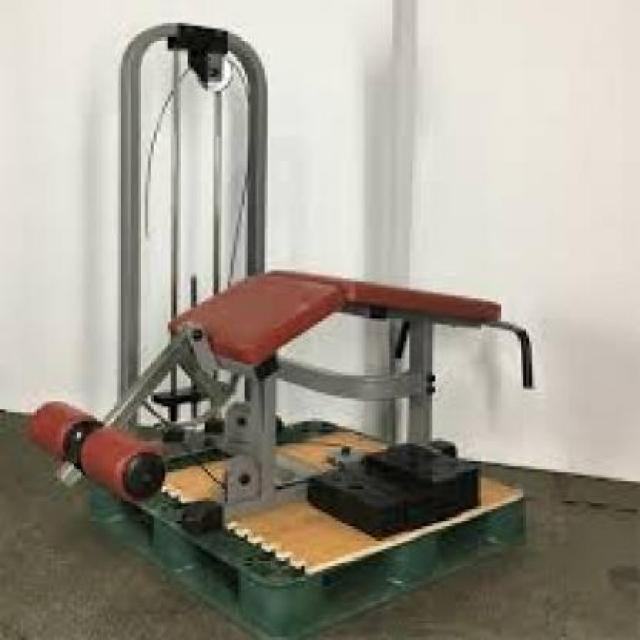reg curl machine: (31, 21, 546, 578)
